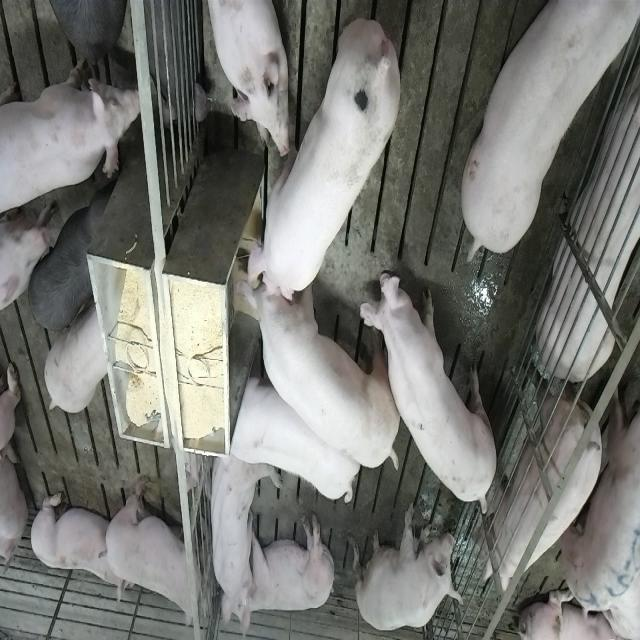Feeding: (238, 16, 404, 306), (234, 258, 404, 474)
Lateral_lying: (233, 509, 336, 631)
Sitting: (354, 499, 464, 632), (205, 444, 271, 630)
Standing: (464, 0, 640, 257), (366, 266, 500, 520), (472, 368, 604, 592), (1, 58, 140, 226), (226, 366, 362, 508), (560, 368, 640, 607), (101, 474, 207, 632), (30, 182, 110, 336), (44, 298, 109, 414)
Sternal_lying: (539, 30, 640, 379), (202, 0, 290, 158), (28, 486, 124, 604)
